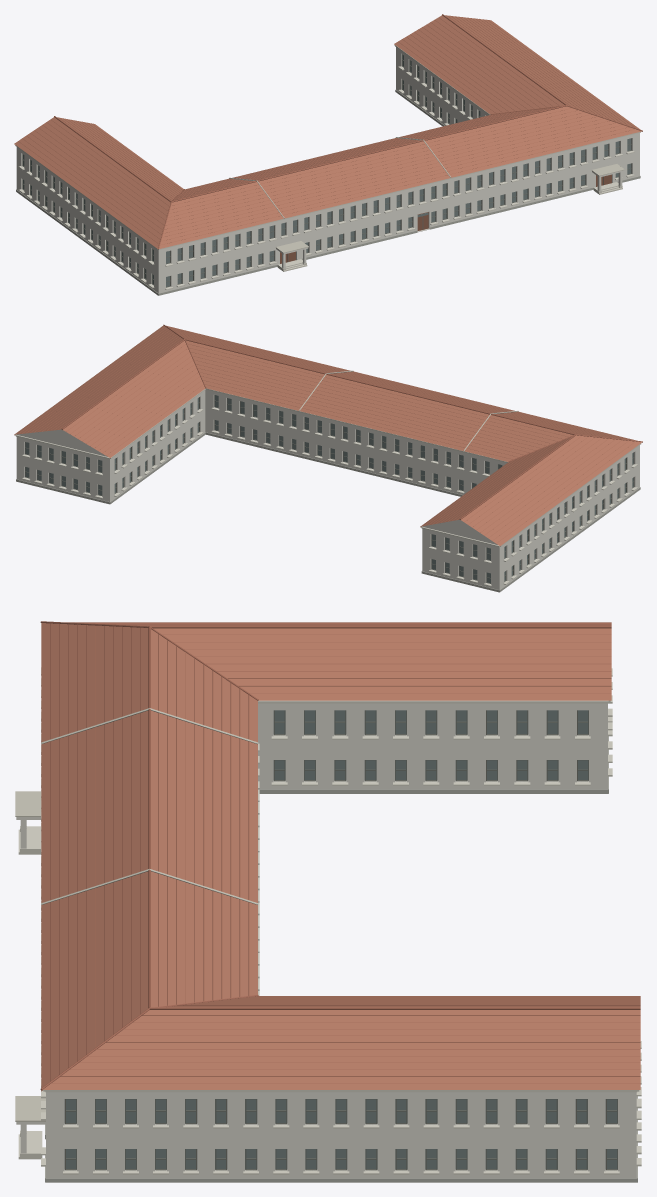
File: huangpu-jiangnan-historic-general-office-lod.glb
3 views of the same model, one above another, from view 1: azimuth 30°, elevation 25°; view 2: azimuth 150°, elevation 25°; view 3: azimuth 270°, elevation 25° (orthographic). The views are drawn at different scales.
Visible parts, largest first — view 1: 江南制造局旧址总办公楼（西公务厅）; view 2: 江南制造局旧址总办公楼（西公务厅）; view 3: 江南制造局旧址总办公楼（西公务厅）.
Part boxes in pixels (x1,y1,x2,y2): 江南制造局旧址总办公楼（西公务厅）: (14,14,642,295); 江南制造局旧址总办公楼（西公务厅）: (14,324,642,592); 江南制造局旧址总办公楼（西公务厅）: (15,621,641,1182).
Size of the model in its own units: 90.33 by 11.68 by 51.03.
